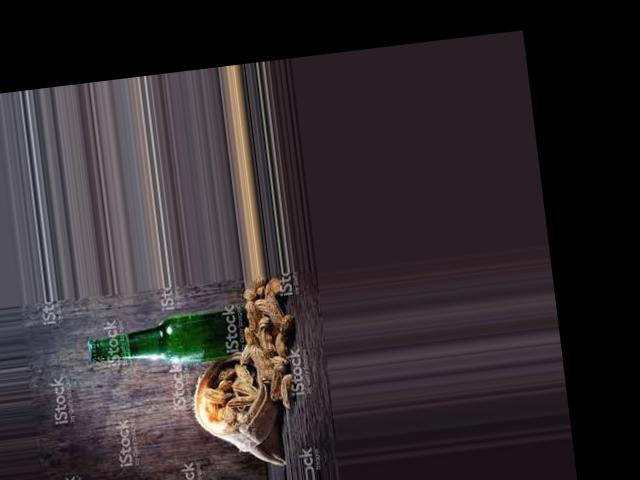beer: (84, 305, 264, 376)
